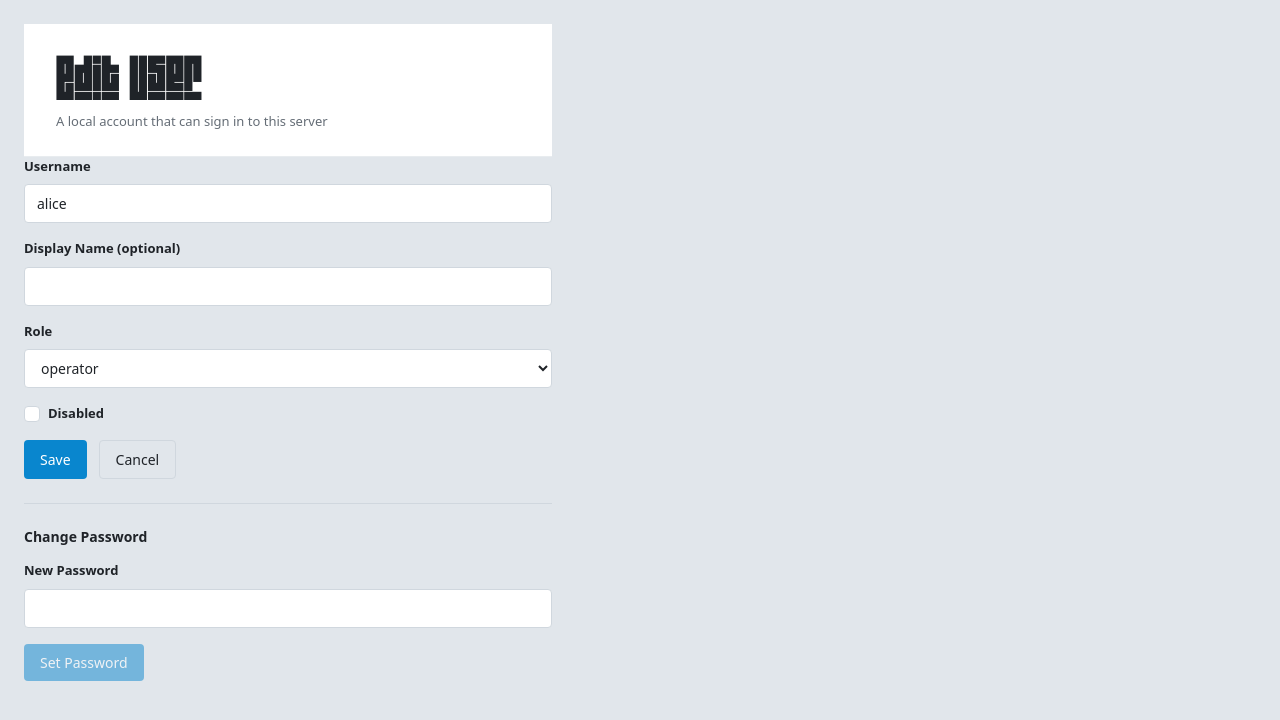
Test case: UserForm (edit) › sets a new password via a separate action from the PATCH
Expected: the field labelled "Username" is shown, [24,184,552,223]
Type "newpass123" into the password field labelled "New Password" at [288, 608], box [24,588,552,628]
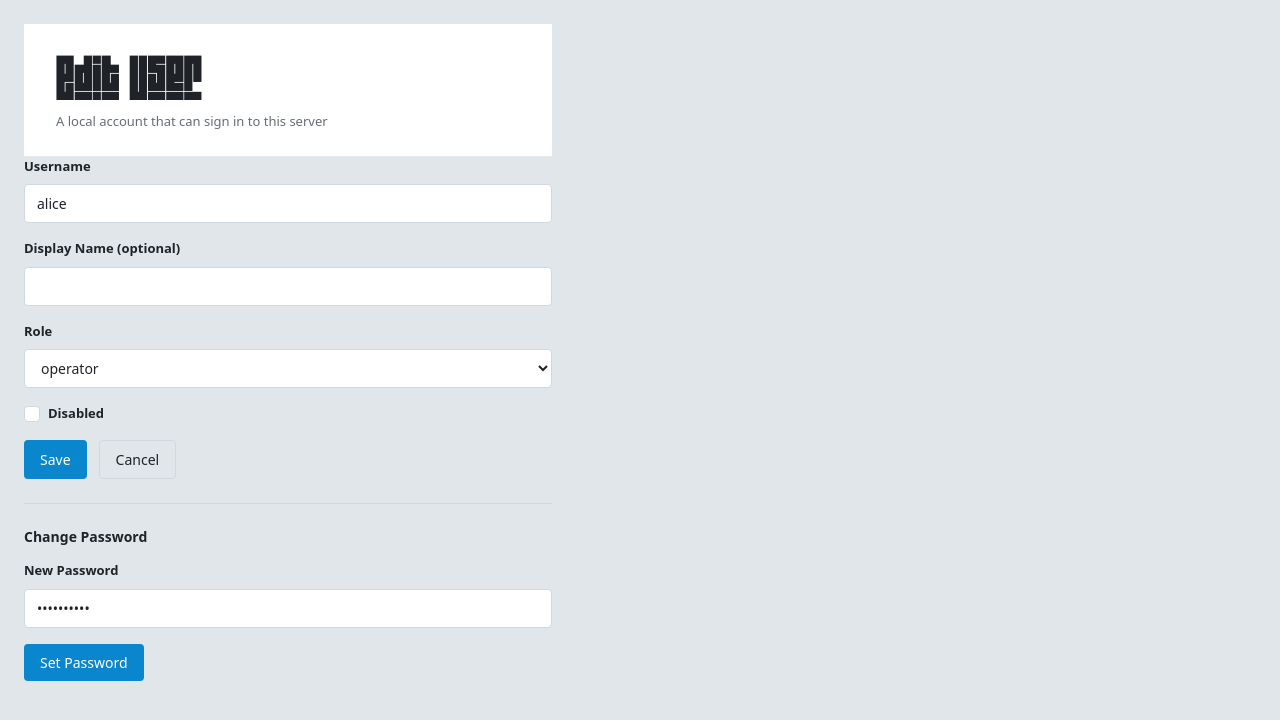
Click the button "Set Password" at [84, 662], box [24,644,144,680]
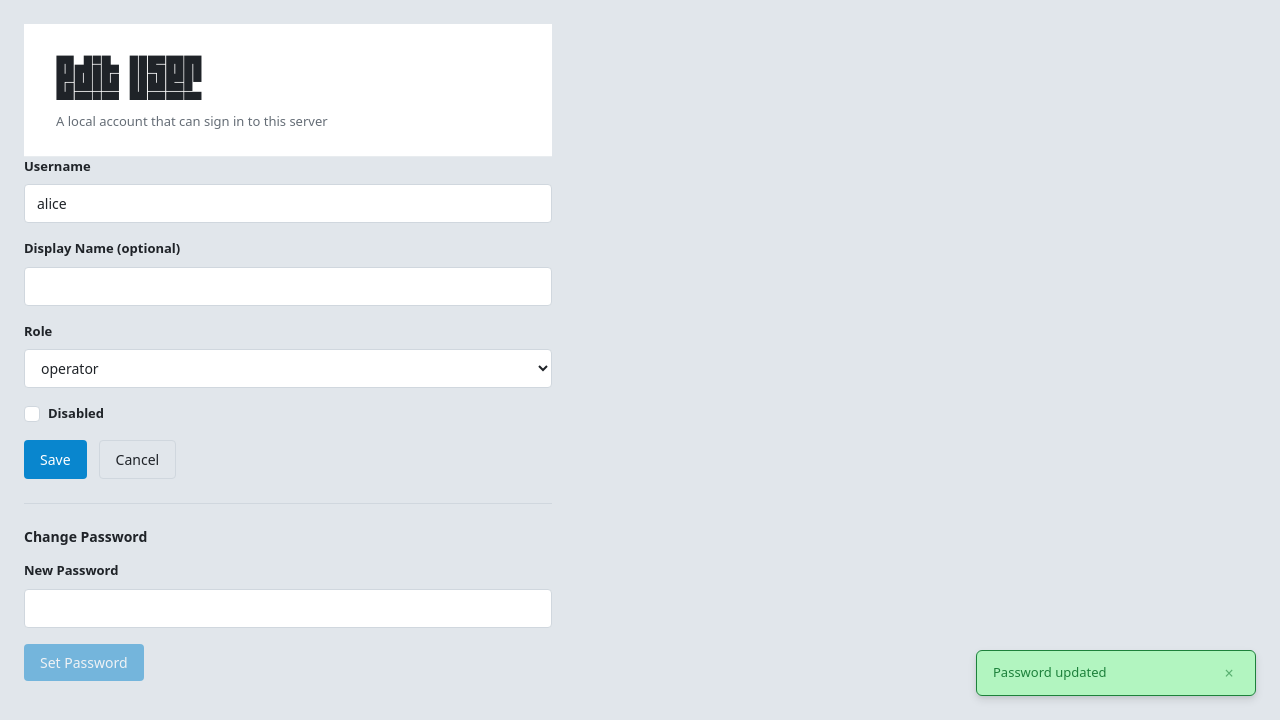
Expected: the text "Password updated" is shown, [993,663,1106,681]
